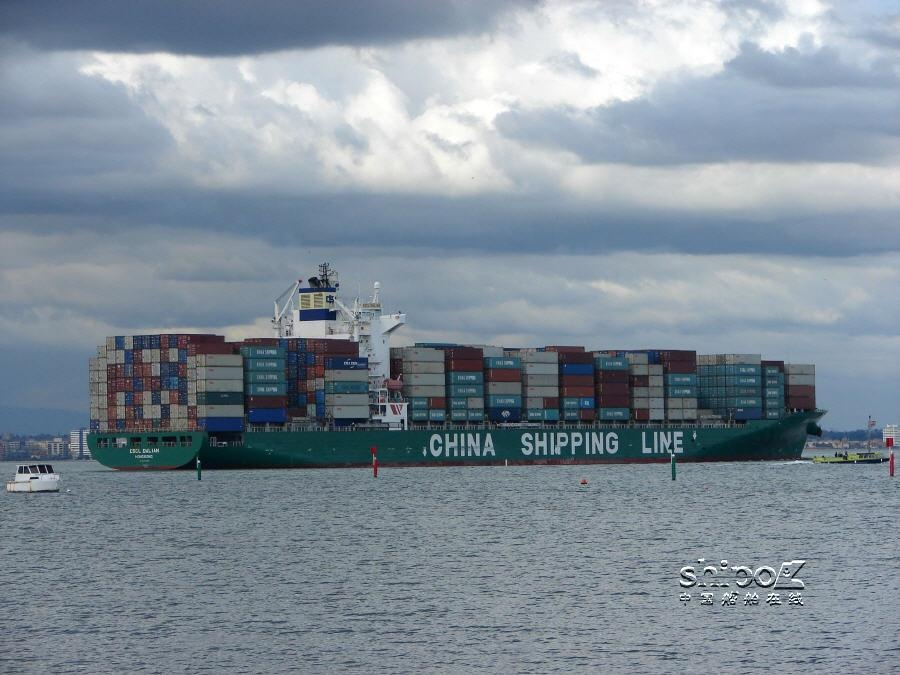Cargoship: (80, 255, 832, 477)
otherboat: (3, 456, 67, 504), (809, 439, 895, 469)
